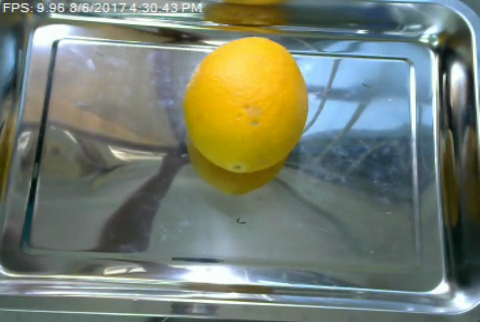Orange: (183, 35, 309, 171)
